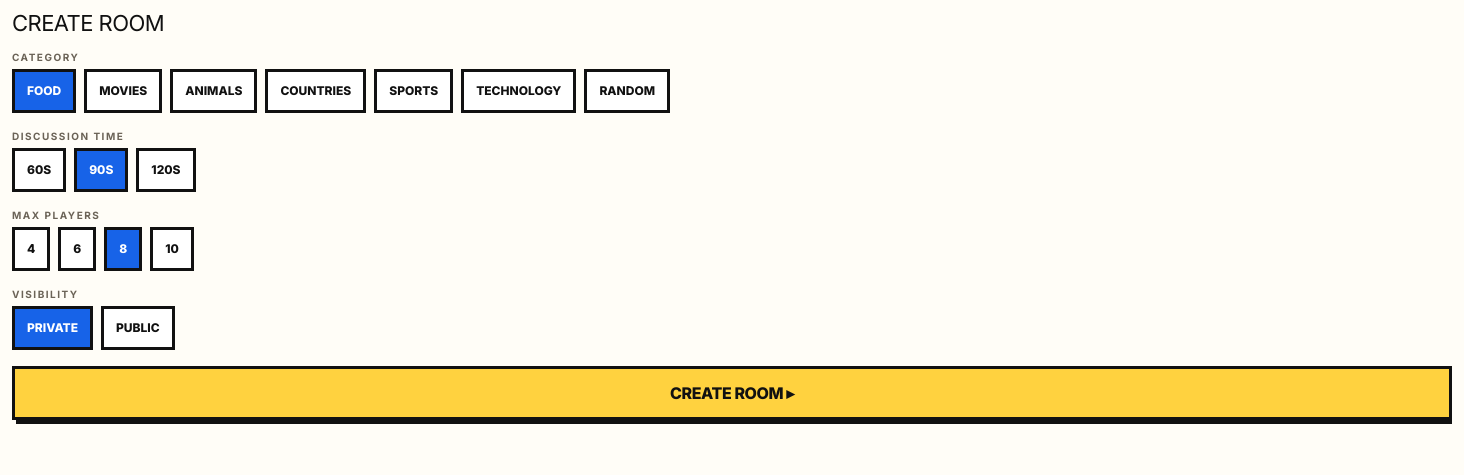
Test: CreateRoom › shows an error when the server rejects
What coordinates should you click on to do the following:
click the button "Create Room ▸"
I would click on:
 (732, 393)
Its box is [12,366,1452,420].
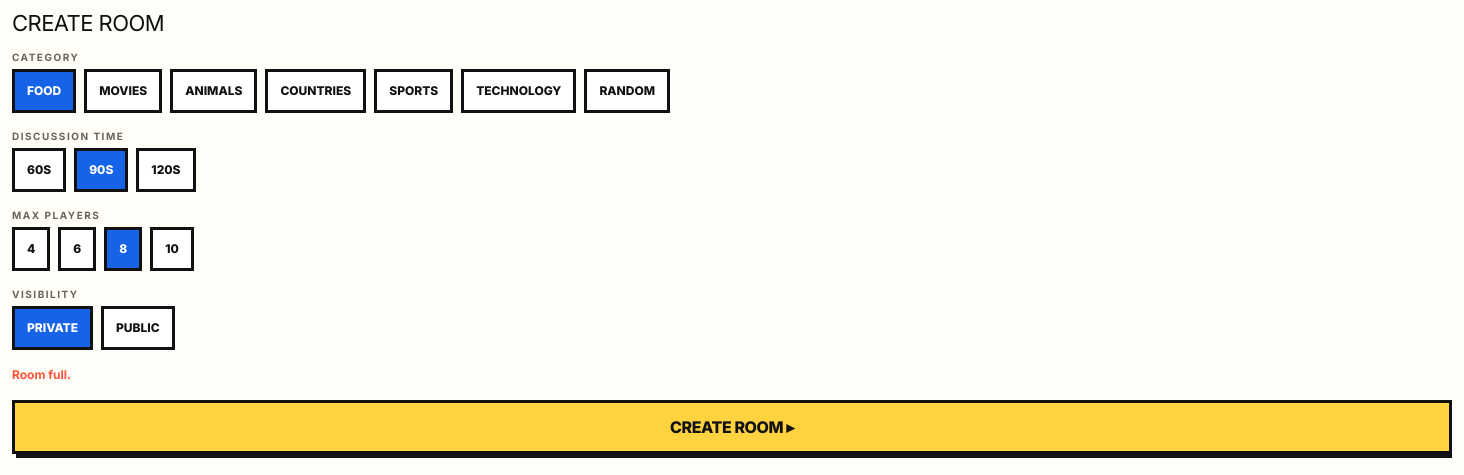
Now the message reads "Room full.", box [12,367,71,382]
